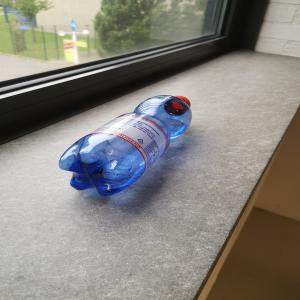Plastic-bottle: (59, 95, 194, 198)
